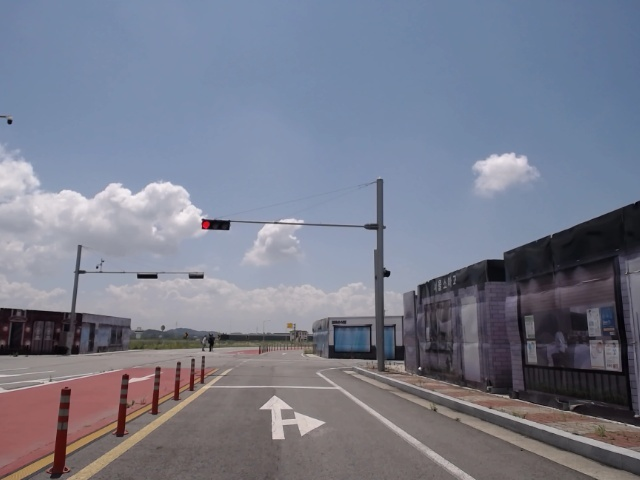red_3: (201, 218, 231, 231)
